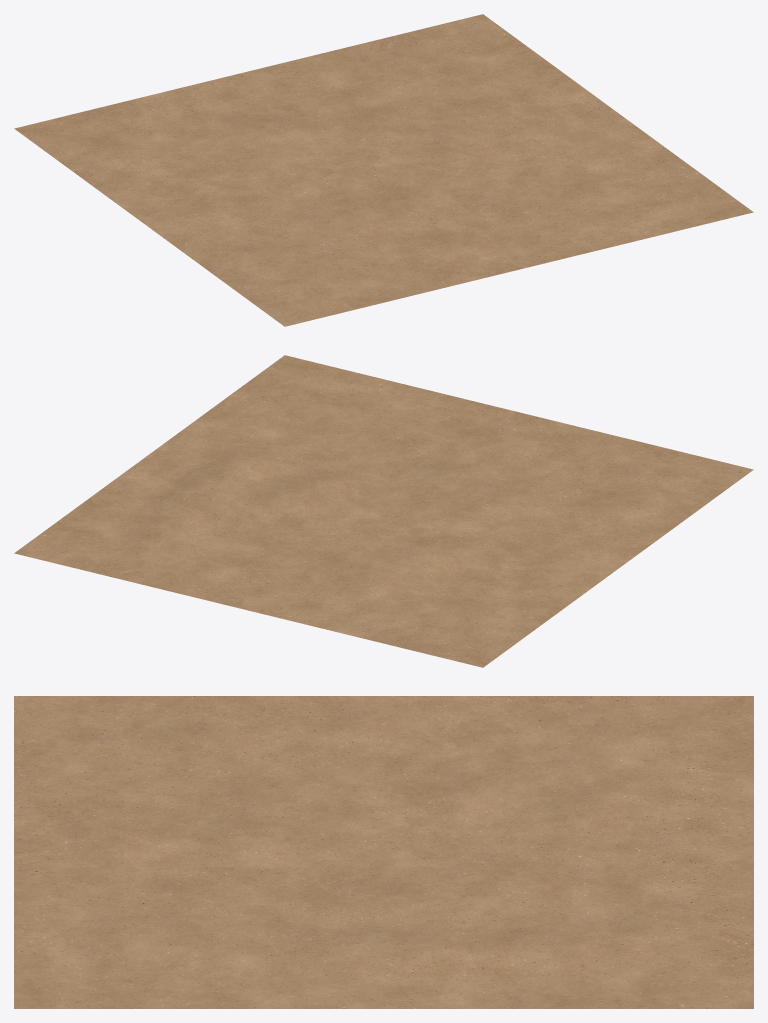
File: ap_modular_wadi_desert.gltf
The picture shows the model from 3 angles, top to bottom: view 1: azimuth 30°, elevation 25°; view 2: azimuth 150°, elevation 25°; view 3: azimuth 270°, elevation 25°; orthographic projection. The views are drawn at different scales.
Visible parts, largest first — view 1: ap_modular_wadi_desert; view 2: ap_modular_wadi_desert; view 3: ap_modular_wadi_desert.
Part boxes in pixels (left/top/right/bottom): ap_modular_wadi_desert: left=14, top=14, right=753, bottom=326; ap_modular_wadi_desert: left=14, top=355, right=753, bottom=667; ap_modular_wadi_desert: left=14, top=696, right=753, bottom=1008.
Size of the model in its own units: 52.48 by 0.3493 by 52.48.
Materials: 1 (1 with a texture image).
